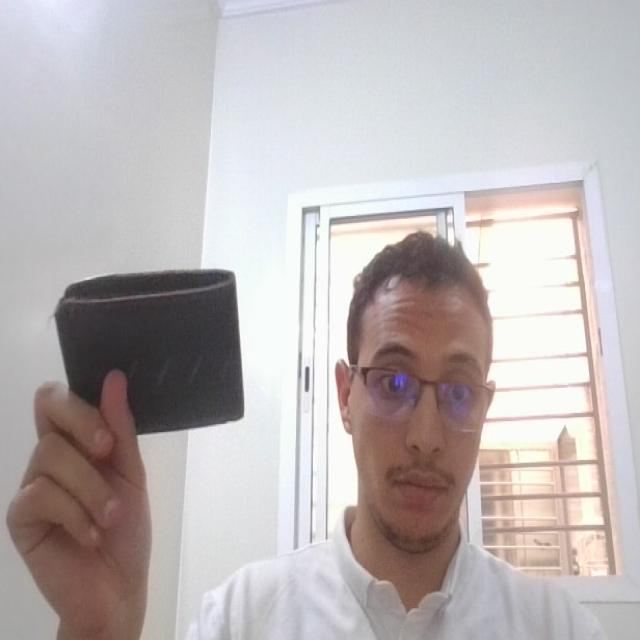wallet: (50, 258, 258, 447)
